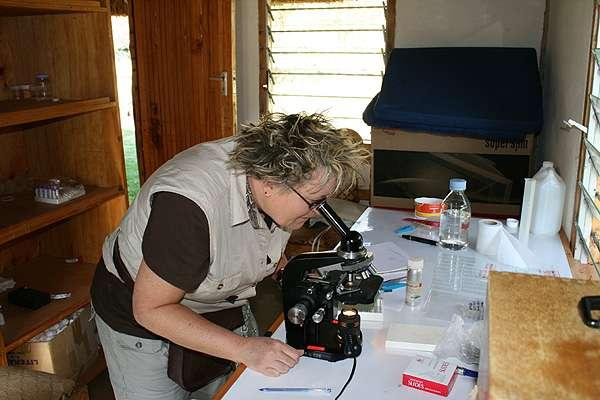person: (91, 111, 369, 399)
